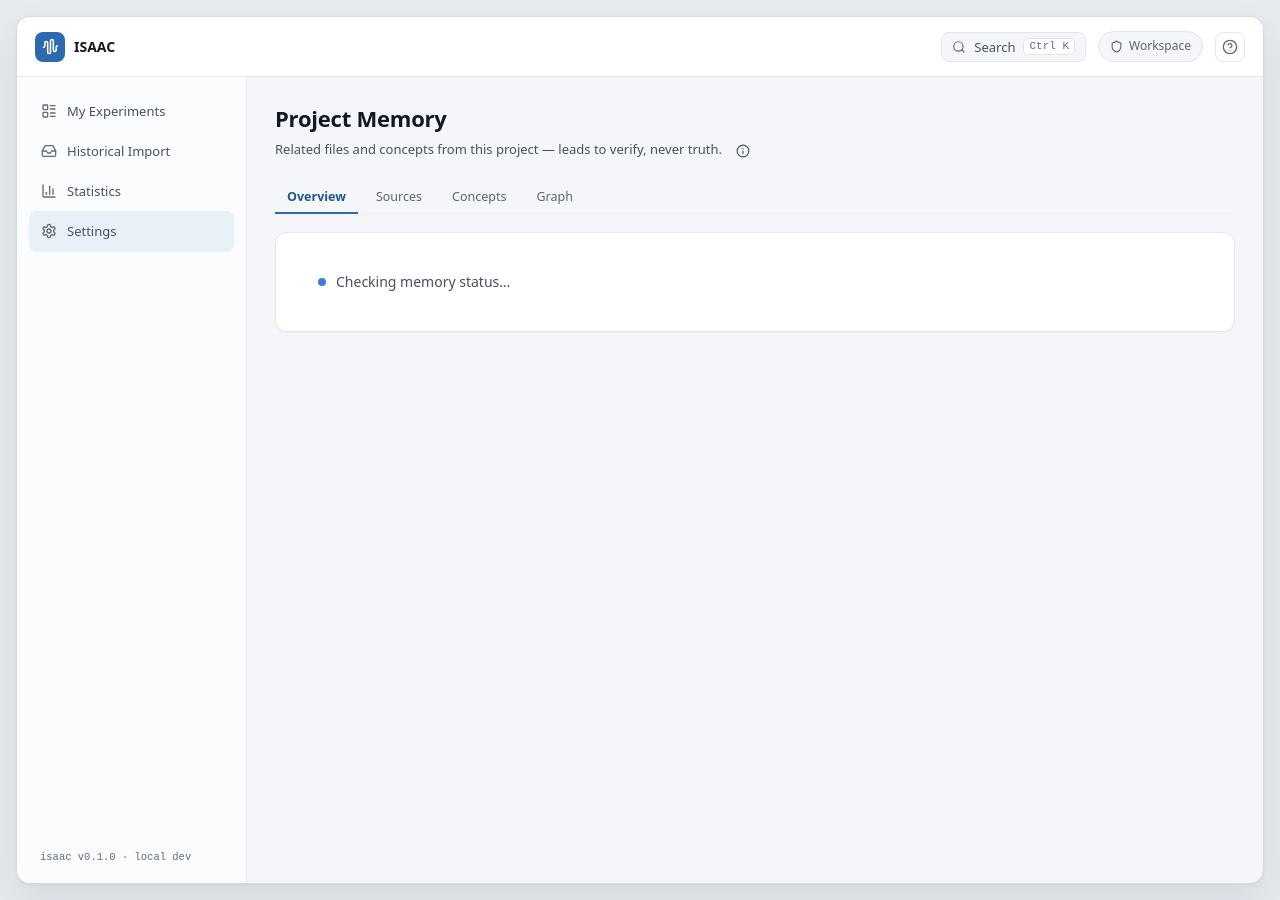
Test case: P24.4 · Source Index — unavailable › renders a compact honest unavailable note, zero rows, no fake content, no error styling
This screenshot has width=1280, height=900.
Click the tab "Sources" at (399, 198), box [364,181,434,214]
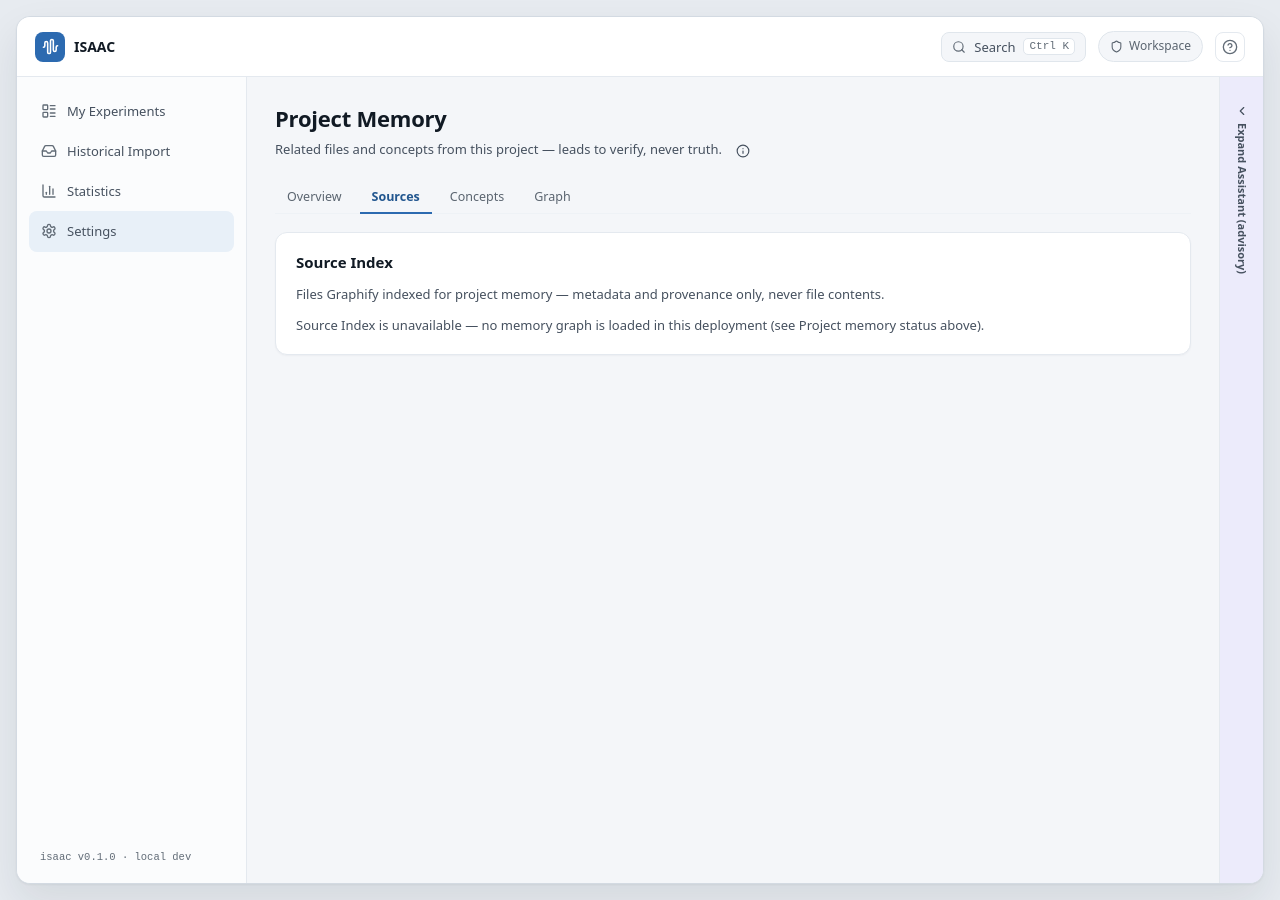
Check: the text "Source Index is unavailable" is shown, box [296,316,984,334]
